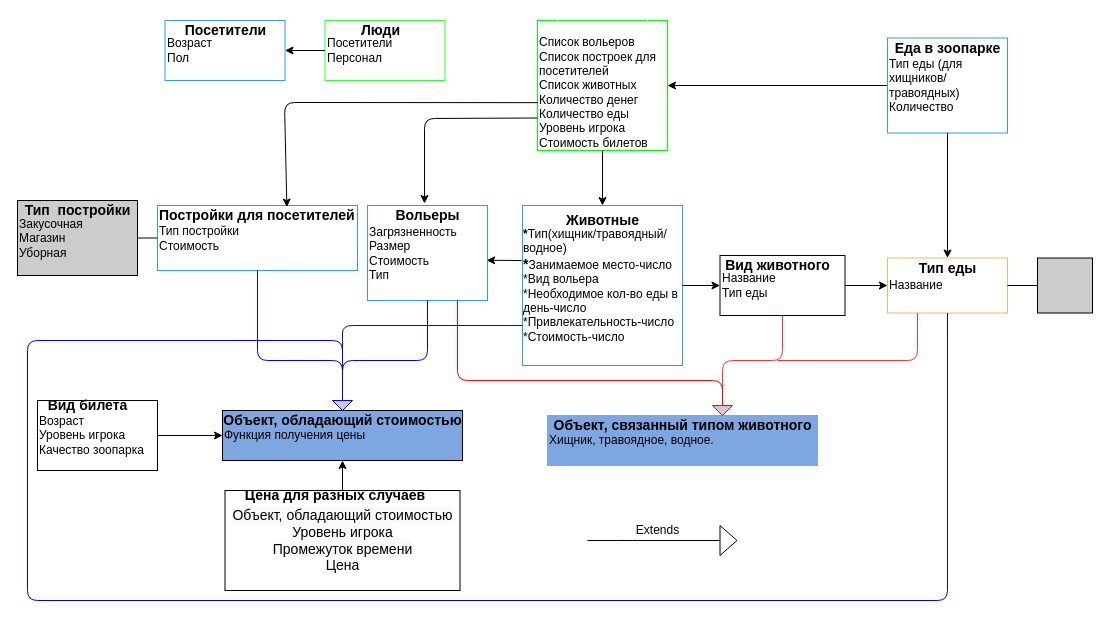
Image size: 1110x619. Some labels were removed from this diagram. Here are the shapes that lost their labels. From the top down, the centre of each, then its label:
point 602,27: Зоопарк
point 1064,285: Мясо Растения Рыба
